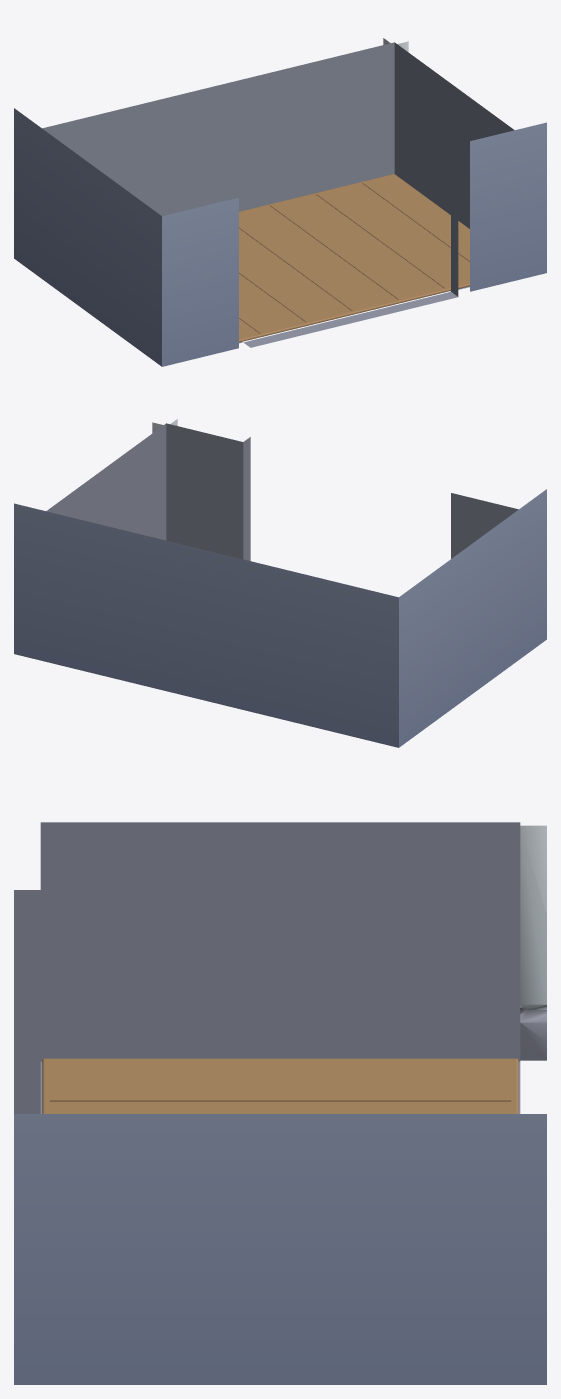
Rendered from open-ruin-BxavJeEW.glb.
The picture shows the model from 3 angles, top to bottom: view 1: azimuth 30°, elevation 25°; view 2: azimuth 150°, elevation 25°; view 3: azimuth 270°, elevation 25°; orthographic projection. The views are drawn at different scales.
Parts seen in each view (by area): view 1: body_ruined_body_house, interior_floor; view 2: body_ruined_body_house; view 3: body_ruined_body_house, interior_floor, floor_seam.
Boxes of the visible parts, left/top/right/bottom form: body_ruined_body_house: left=14, top=38, right=546, bottom=366; interior_floor: left=239, top=174, right=469, bottom=342; body_ruined_body_house: left=14, top=419, right=546, bottom=747; body_ruined_body_house: left=14, top=822, right=546, bottom=1384; interior_floor: left=42, top=1058, right=518, bottom=1113; floor_seam: left=49, top=1100, right=511, bottom=1101.
Bounding box in the file's own units: 300 × 114 × 200.
Materials: 3 (1 with a texture image).
